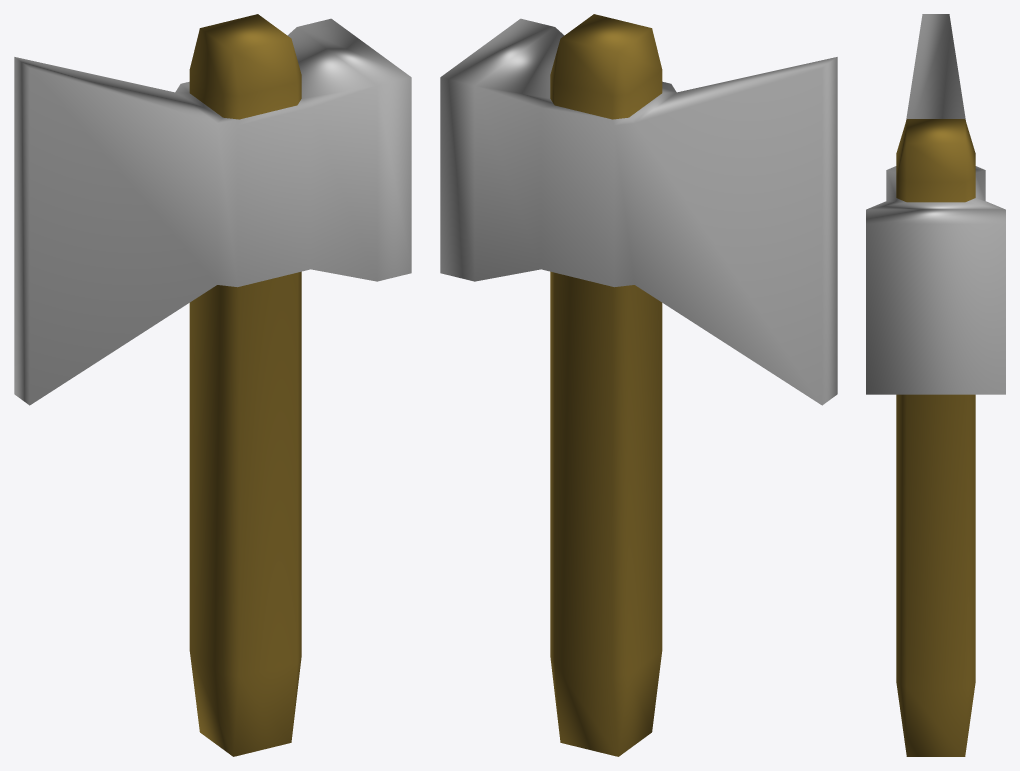
Rendered from axe.fbx.
The picture shows the model from 3 angles, left to right: view 1: azimuth 30°, elevation 25°; view 2: azimuth 150°, elevation 25°; view 3: azimuth 270°, elevation 25°; orthographic projection. The views are drawn at different scales.
Visible parts, largest first — view 1: Cube.003; view 2: Cube.003; view 3: Cube.003.
Part boxes in pixels (x1=…): Cube.003: x1=14, y1=14, x2=411, y2=756; Cube.003: x1=440, y1=14, x2=837, y2=756; Cube.003: x1=866, y1=14, x2=1005, y2=756.
Size of the model in its own units: 2.08 by 4.14 by 0.8267.
